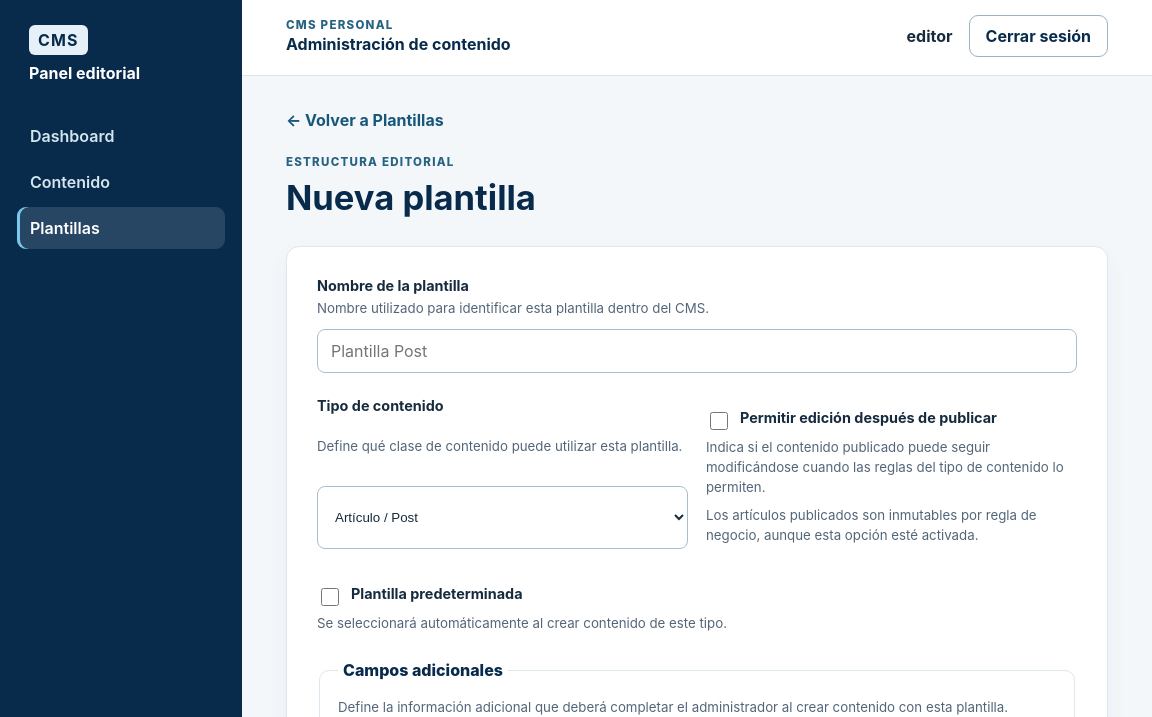
Scenario: Gestión de Templates › crear con respuesta 409 muestra un error seguro
Type "Plantilla repetida" into the field labelled "Nombre de la plantilla" at x=697, y=351, box [317,329,1077,373]
(page scrolled)
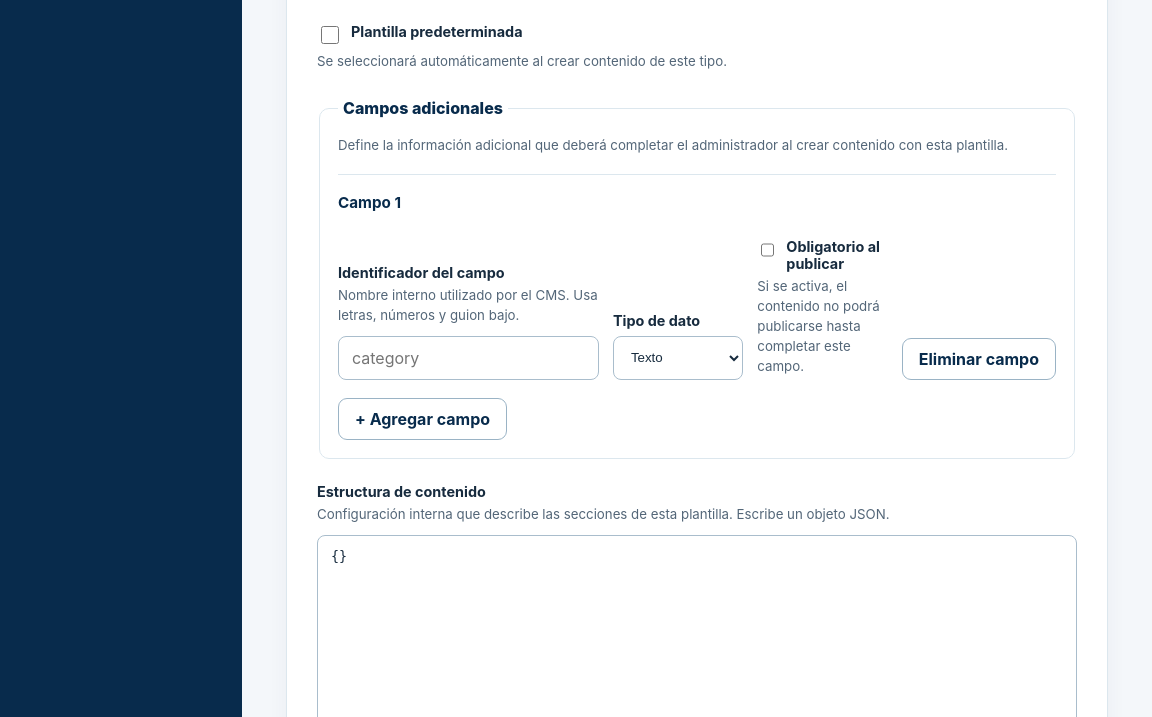
Type "topic" into the field labelled "Identificador del campo" at x=468, y=358, box [338,336,599,380]
(page scrolled)
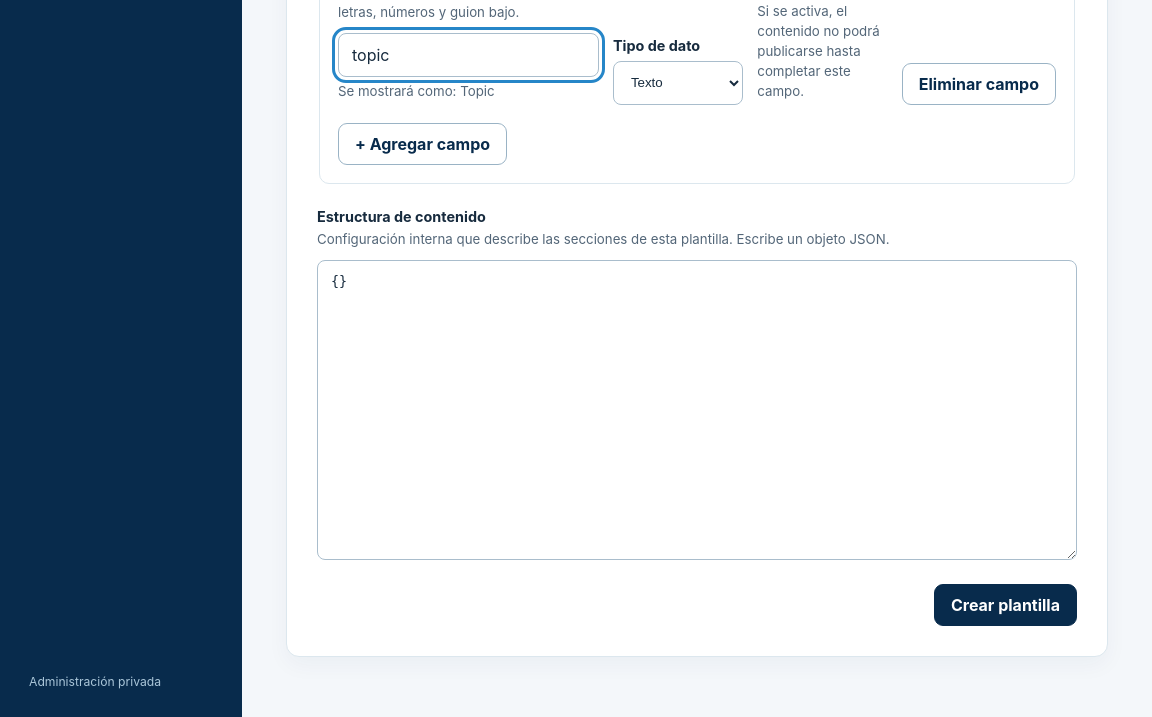
Click the button "Crear plantilla" at x=1005, y=605, box [934,584,1077,626]
(page scrolled)
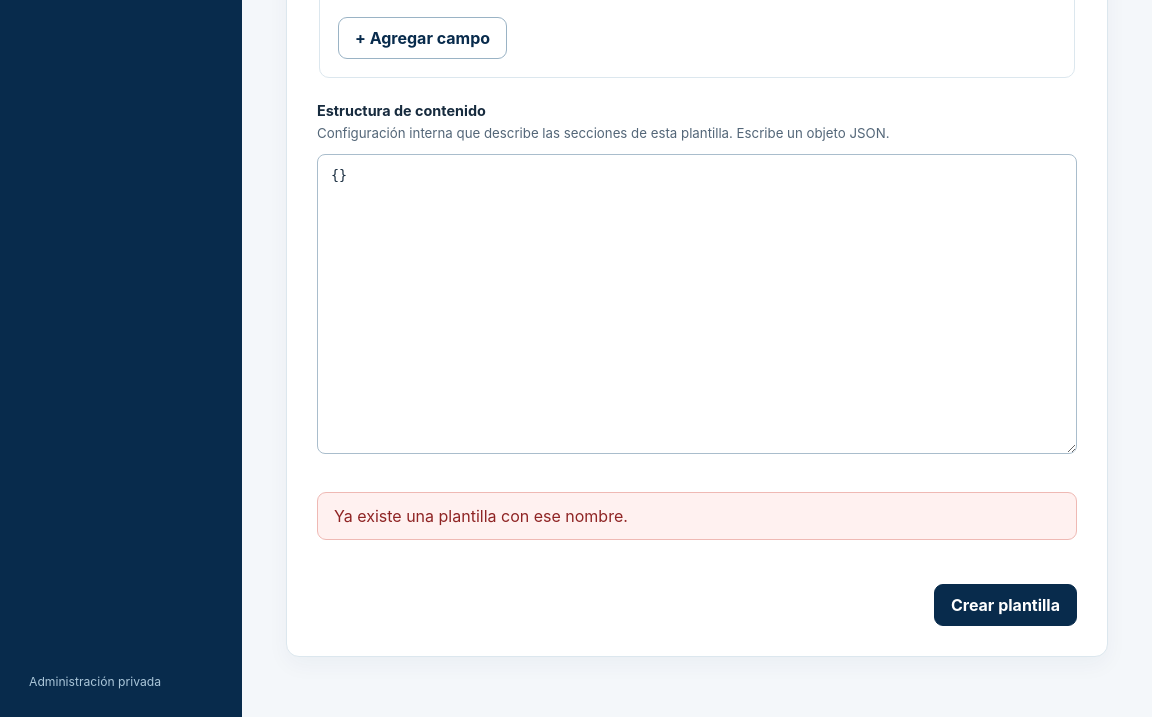
expect the message reads "Ya existe una plantilla con ese nombre.": met, box [334,506,628,526]
